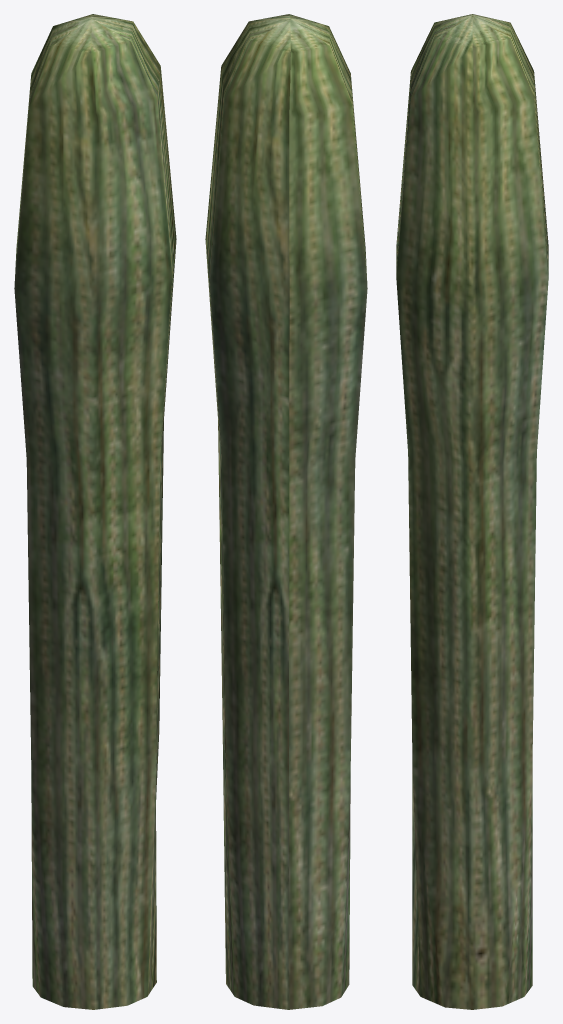
File: DesertPlant01D.FBX
The picture shows the model from 3 angles, left to right: view 1: azimuth 30°, elevation 25°; view 2: azimuth 150°, elevation 25°; view 3: azimuth 270°, elevation 25°; orthographic projection.
Parts seen in each view (by area): view 1: DesertPlant01D; view 2: DesertPlant01D; view 3: DesertPlant01D.
Boxes of the visible parts, <box> form: DesertPlant01D: <box>14,14,176,1009</box>; DesertPlant01D: <box>205,14,367,1009</box>; DesertPlant01D: <box>396,14,548,1009</box>.
Bounding box in the file's own units: 1.5 × 8.53 × 1.22.
1 material, 1 textured.
